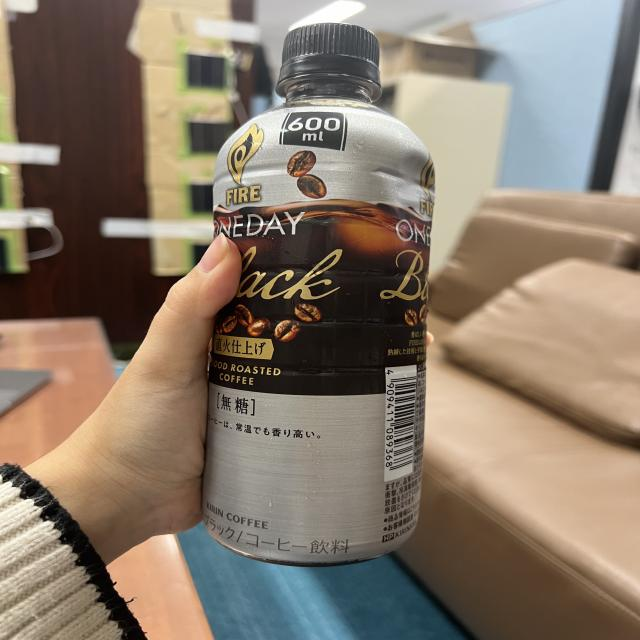coffee-black: (202, 17, 430, 565)
